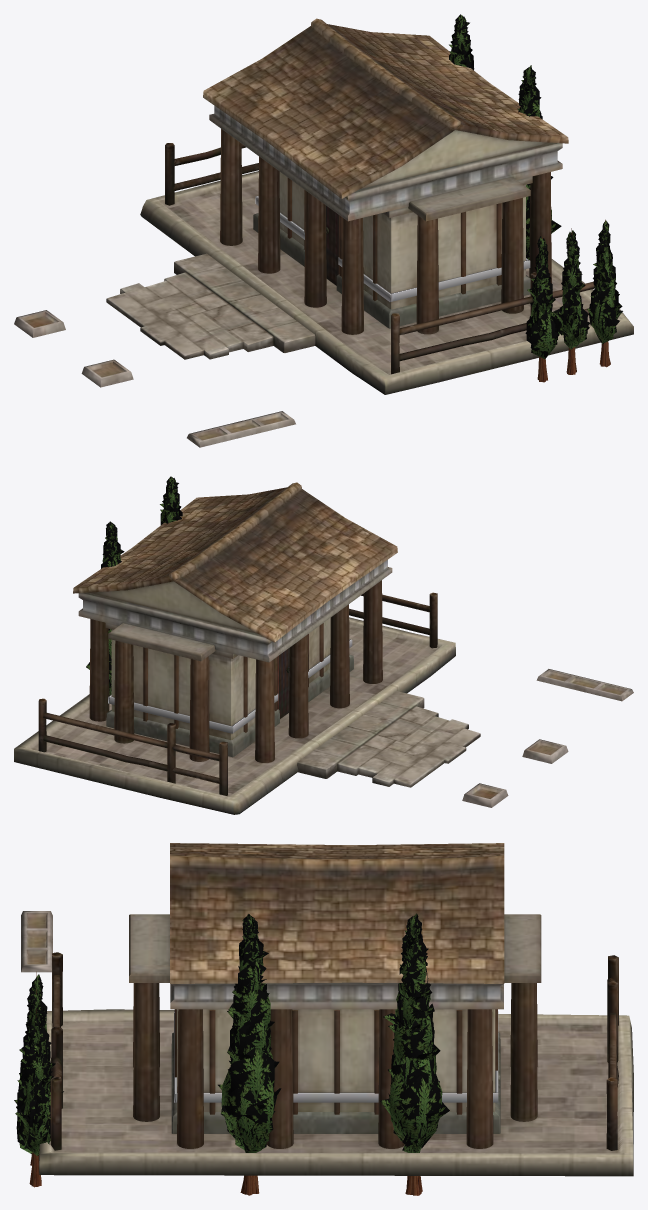
Rendered from 21-temple.glb.
3 views of the same model, one above another, from view 1: azimuth 30°, elevation 25°; view 2: azimuth 150°, elevation 25°; view 3: azimuth 270°, elevation 25° (orthographic). The views are drawn at different scales.
Bounding box in the file's own units: 10.09 × 4.81 × 9.68.
Materials: 3 (3 with a texture image).
